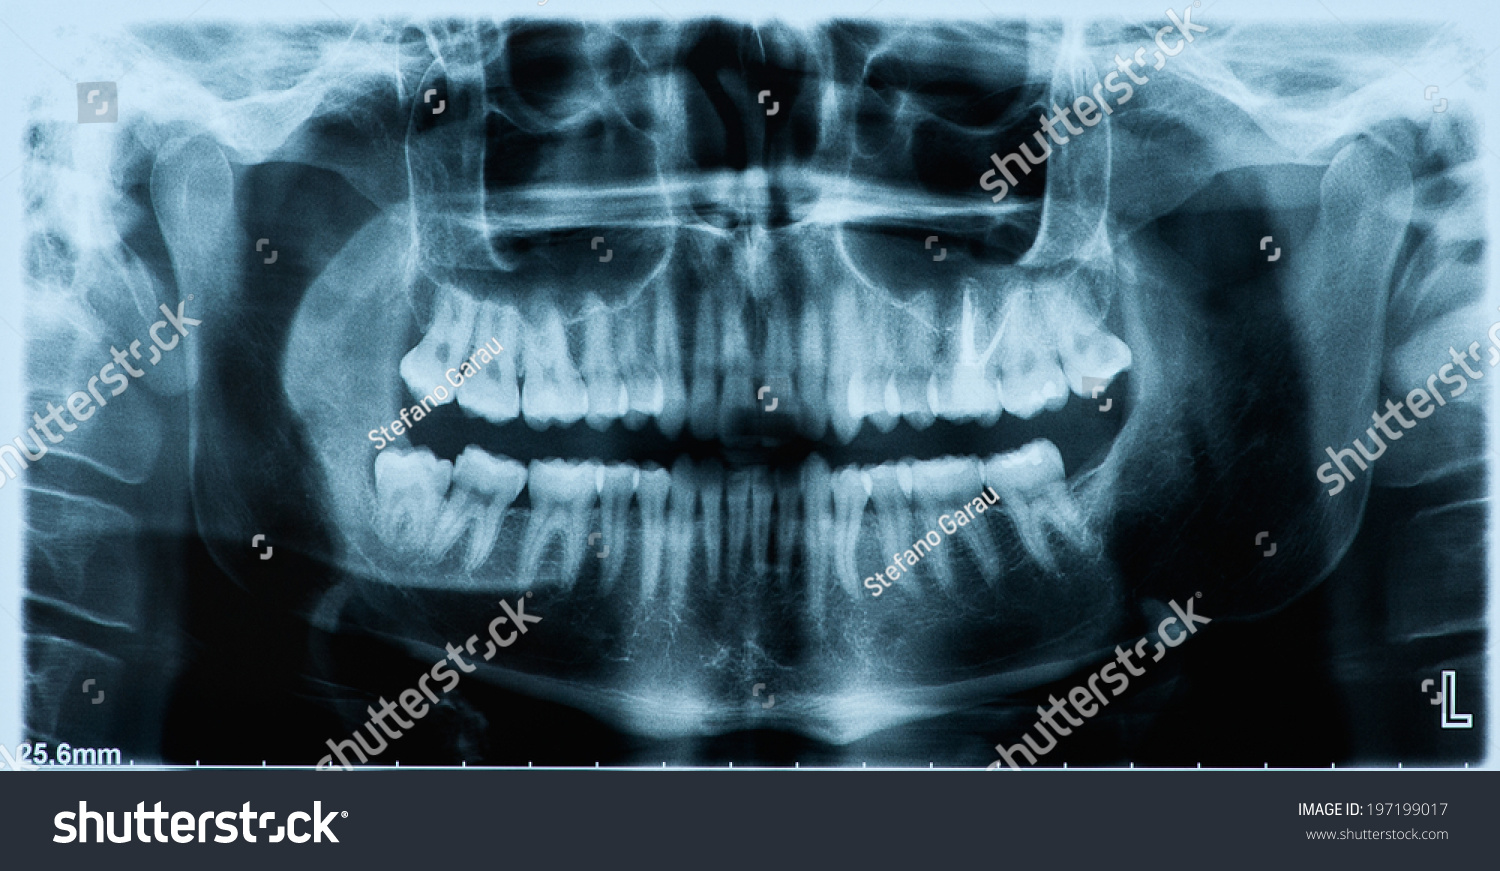canine: (653, 266, 702, 441), (824, 273, 869, 450), (670, 442, 708, 623), (797, 447, 834, 630)
incisor: (755, 277, 799, 450), (716, 277, 758, 452), (791, 287, 831, 443), (684, 273, 720, 443), (698, 448, 735, 605), (771, 465, 803, 600), (721, 465, 755, 594), (748, 453, 780, 590)
molar: (1031, 247, 1147, 412), (986, 423, 1107, 563), (898, 451, 1010, 600), (977, 266, 1079, 421), (430, 444, 534, 573), (929, 265, 1004, 434), (366, 436, 471, 557), (521, 457, 620, 586), (402, 272, 491, 412), (514, 297, 600, 426), (460, 285, 535, 429)
premolar: (865, 449, 929, 609), (881, 278, 943, 433), (572, 281, 636, 430), (617, 269, 662, 452), (823, 457, 878, 602), (593, 458, 648, 599), (855, 285, 903, 437), (634, 463, 679, 608)
